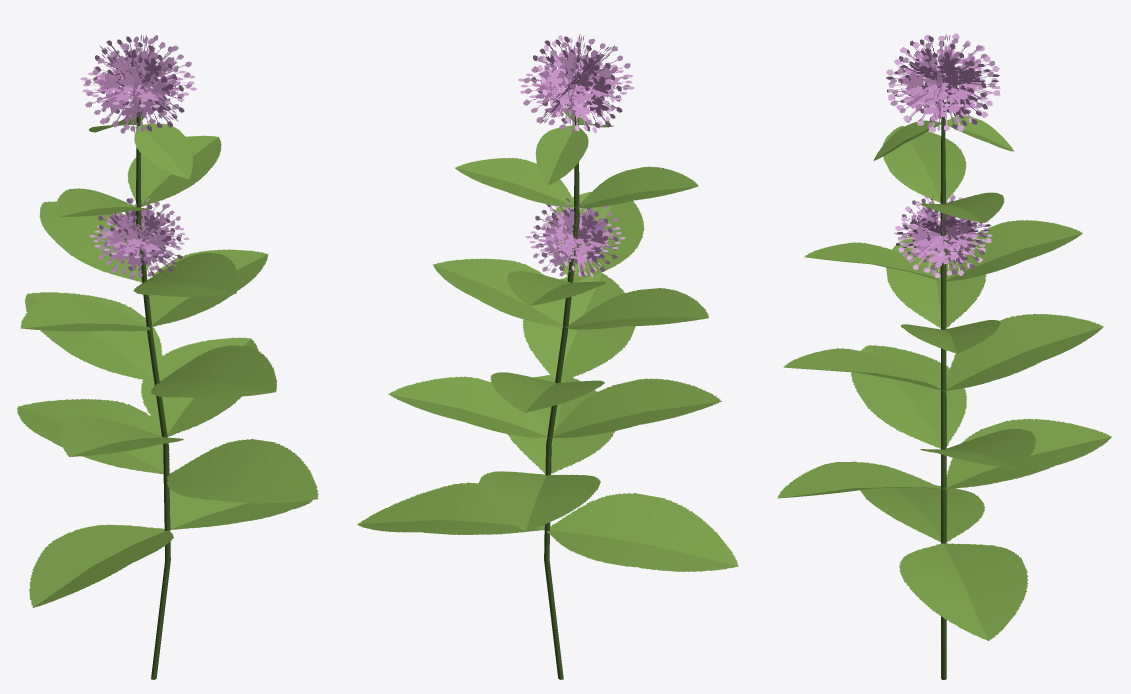
File: Water_Mint_1.gltf
The picture shows the model from 3 angles, left to right: view 1: azimuth 30°, elevation 25°; view 2: azimuth 150°, elevation 25°; view 3: azimuth 270°, elevation 25°; orthographic projection.
Parts seen in each view (by area): view 1: Watermint_1; view 2: Watermint_1; view 3: Watermint_1.
Part boxes in pixels (box(x1,y1,x2,y2)): Watermint_1: box(17, 34, 318, 679); Watermint_1: box(357, 34, 738, 679); Watermint_1: box(777, 33, 1111, 679).
Size of the model in its own units: 22.8 by 41.33 by 20.37.
Materials: 1 (1 with a texture image).
